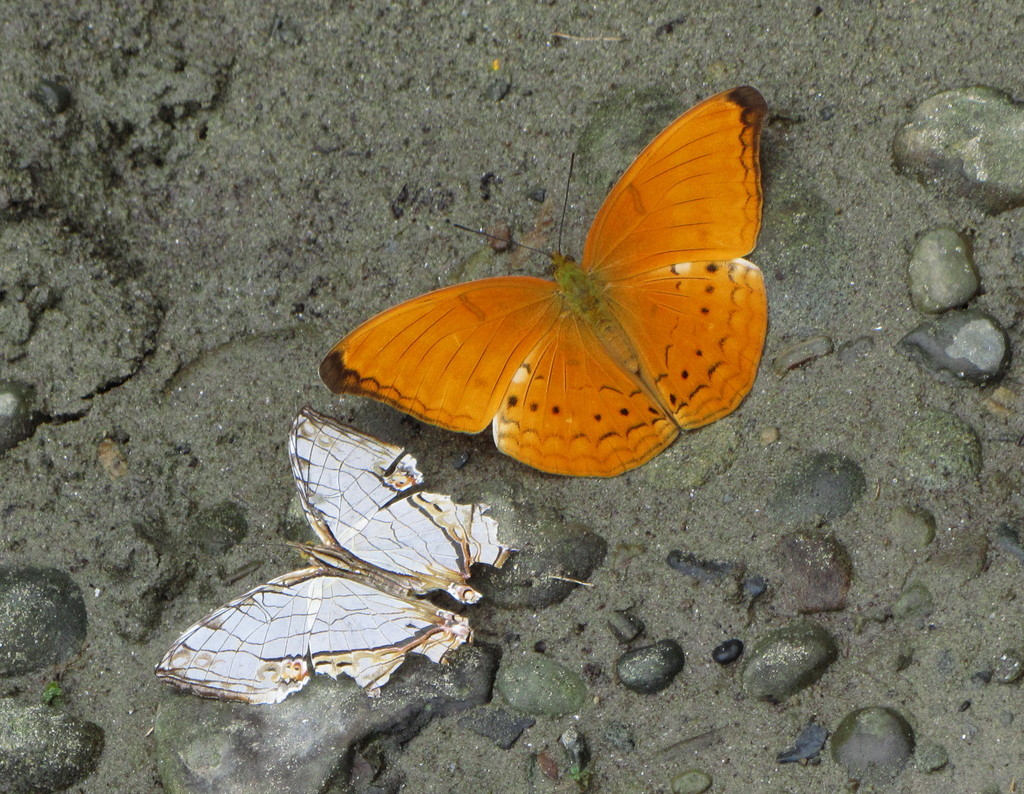Butterfly: (298, 73, 833, 486)
